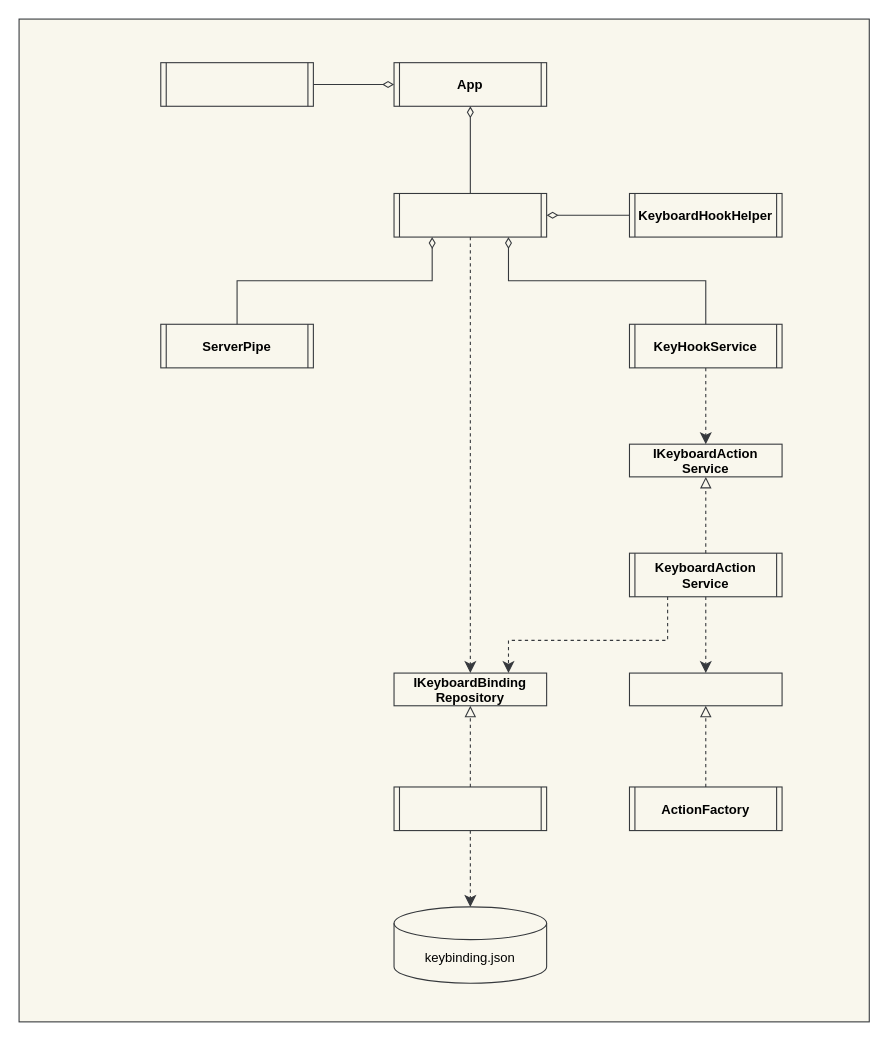
Some shapes in this 888 by 1041 pixel diagram are drawn without their labels. The centre of each missing label's shape, as x and y in pixels:
"IActionFactory" goes at (705,689).
"KeyboardBinding Repository" goes at (470,808).
"MainWindow" goes at (470,214).
"ServiceProvider" goes at (236,84).
